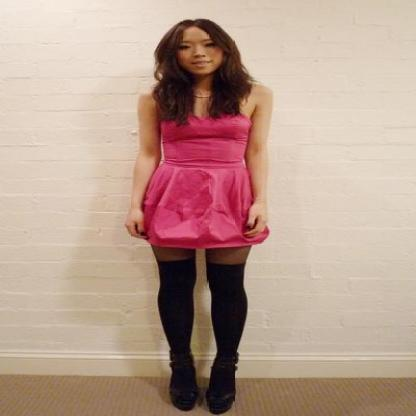dress: (138, 109, 268, 249)
shoe: (170, 371, 235, 414)
